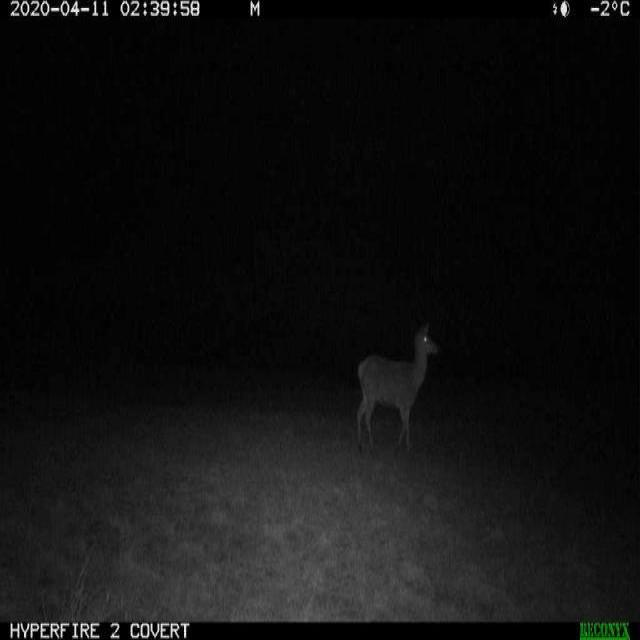deer: (352, 309, 442, 456)
